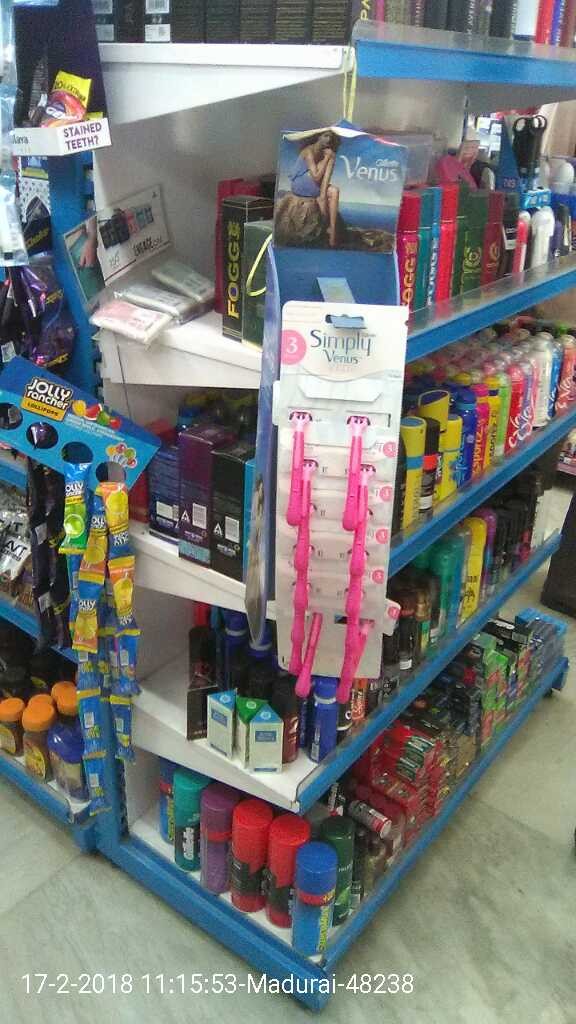reject: (202, 570, 353, 710)
